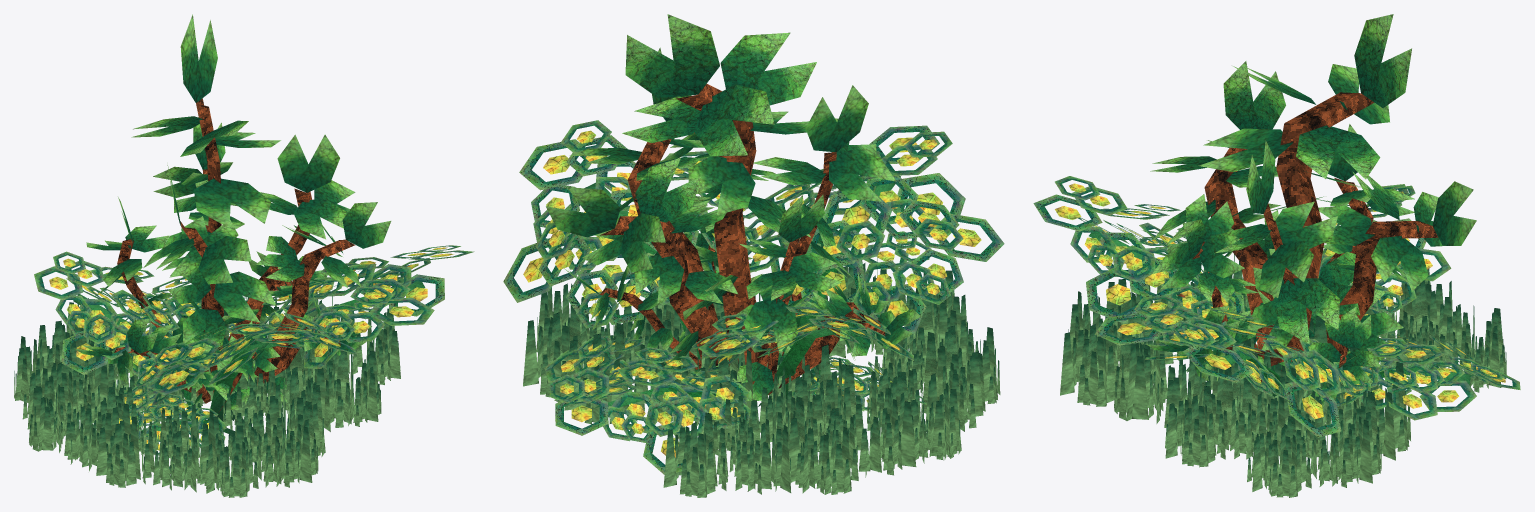
The model's file is prefab_09.glb.
3 renders of one model, left to right at view 1: azimuth 30°, elevation 25°; view 2: azimuth 150°, elevation 25°; view 3: azimuth 270°, elevation 25°, orthographic. The views are drawn at different scales.
Visible parts, largest first — view 1: PRFB_09-no-col; view 2: PRFB_09-no-col; view 3: PRFB_09-no-col.
Boxes of the visible parts, x1,y1,x2,y2 form: PRFB_09-no-col: [14, 14, 474, 497]; PRFB_09-no-col: [503, 14, 1004, 497]; PRFB_09-no-col: [1033, 14, 1520, 497].
Bounding box in the file's own units: 4.29 × 3.86 × 4.03.
Materials: 2 (2 with a texture image).
